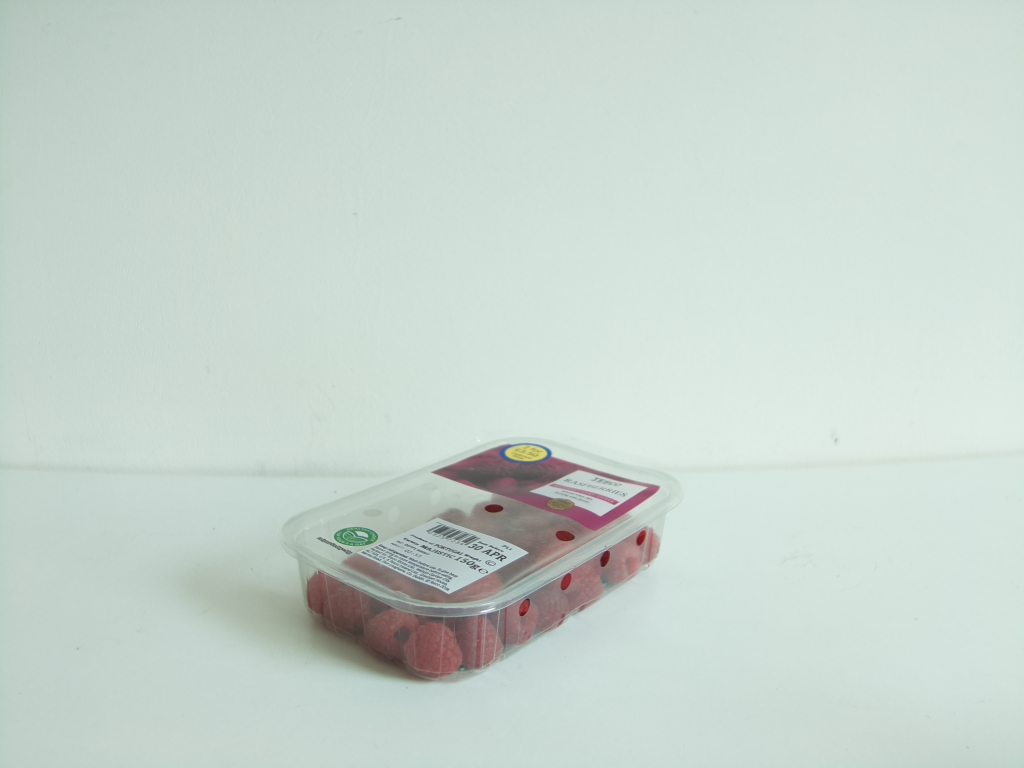soft-fruit: (280, 435, 680, 684)
